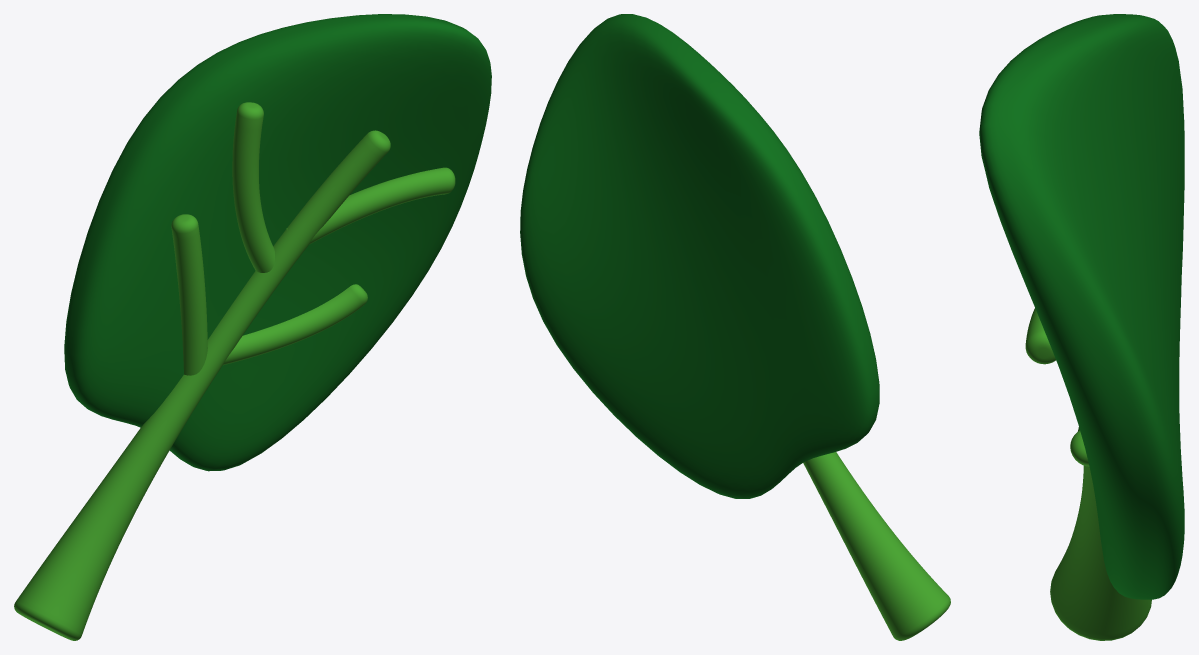
File: spinach.fbx
The picture shows the model from 3 angles, left to right: view 1: azimuth 30°, elevation 25°; view 2: azimuth 150°, elevation 25°; view 3: azimuth 270°, elevation 25°; orthographic projection. The views are drawn at different scales.
Parts seen in each view (by area): view 1: Cube.014, NurbsPath.041; view 2: Cube.014, NurbsPath.041; view 3: Cube.014, NurbsPath.041.
Part boxes in pixels (x1,y1,x2,y2): Cube.014: [64, 14, 491, 471]; NurbsPath.041: [14, 102, 455, 640]; Cube.014: [520, 14, 879, 498]; NurbsPath.041: [803, 452, 950, 640]; Cube.014: [979, 14, 1184, 599]; NurbsPath.041: [1025, 308, 1151, 640].
Bounding box in the file's own units: 164 × 197 × 46.97.
